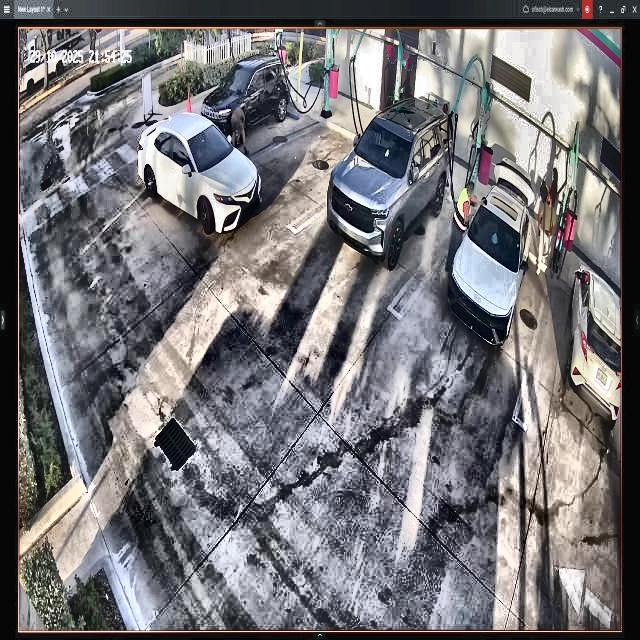Car: (327, 96, 453, 265), (450, 162, 534, 350), (137, 111, 262, 231)
